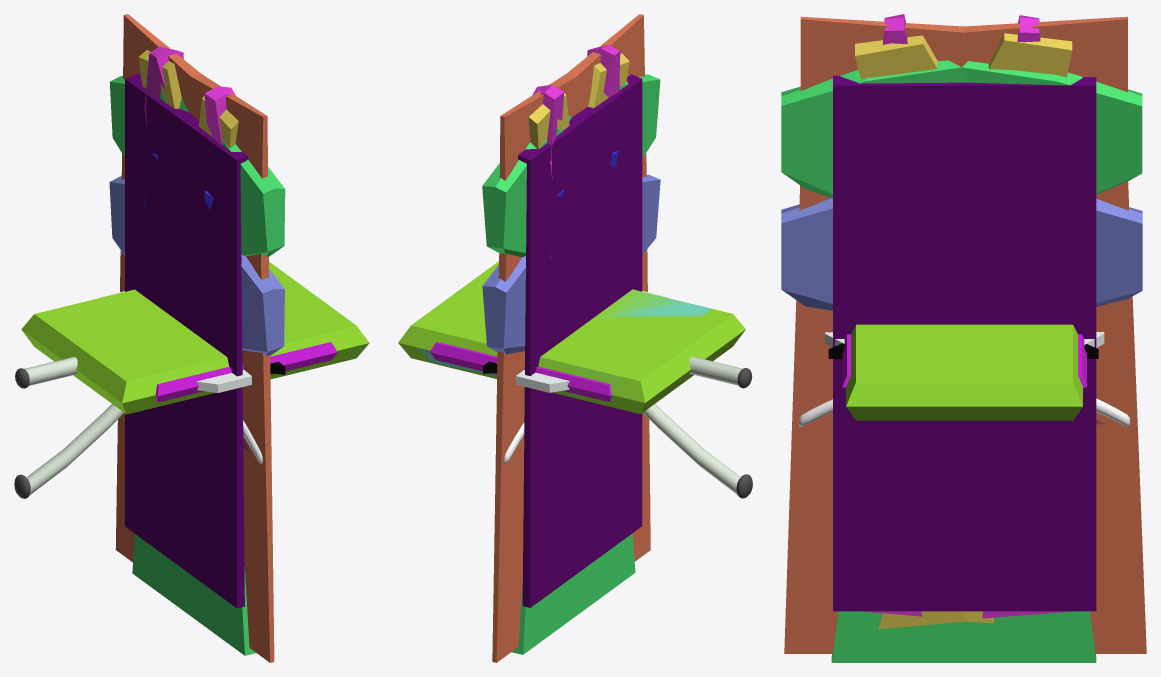
The model's file is cloth_set.fbx.
The picture shows the model from 3 angles, left to right: view 1: azimuth 30°, elevation 25°; view 2: azimuth 150°, elevation 25°; view 3: azimuth 270°, elevation 25°; orthographic projection. The views are drawn at different scales.
Parts seen in each view (by area): view 1: cloth.009, Cube.028, cloth.002, cloth.005, cloth.006, cloth_close, Cube.030, cloth.001, cloth.004, Cylinder.003, cloth.011; view 2: cloth.009, Cube.028, cloth.002, cloth.005, cloth.006, Cube.026, cloth_close, Cube.030, cloth.001, cloth.004, Cylinder.003, cloth.011; view 3: cloth.009, cloth.002, cloth.005, Cube.028, cloth.006, cloth.004, cloth.001, Cube.032, Cube.030.
Part boxes in pixels (box(x1,y1,x2,y2)): cloth.009: box(125, 73, 247, 608); Cube.028: box(21, 261, 369, 414); cloth.002: box(115, 14, 274, 662); cloth.005: box(109, 76, 285, 655); cloth.006: box(109, 176, 284, 355); cloth_close: box(14, 404, 123, 498); Cube.030: box(155, 342, 337, 402); cloth.001: box(144, 46, 235, 144); cloth.004: box(138, 50, 238, 148); Cylinder.003: box(15, 357, 77, 388); cloth.011: box(99, 291, 251, 392); cloth.009: box(518, 74, 642, 607); Cube.028: box(398, 261, 745, 413); cloth.002: box(492, 14, 650, 662); cloth.005: box(482, 74, 660, 654); cloth.006: box(482, 174, 660, 354); Cube.026: box(419, 290, 711, 401); cloth_close: box(643, 403, 752, 498); Cube.030: box(430, 342, 611, 401); cloth.001: box(532, 45, 620, 179); cloth.004: box(528, 53, 629, 149); Cylinder.003: box(689, 356, 752, 388); cloth.011: box(496, 291, 668, 392); cloth.009: box(833, 75, 1096, 611); cloth.002: box(784, 16, 1146, 653); cloth.005: box(781, 60, 1142, 662); Cube.028: box(846, 324, 1082, 420); cloth.006: box(781, 198, 1142, 310); cloth.004: box(855, 33, 1072, 629); cloth.001: box(862, 14, 1072, 618); Cube.032: box(799, 398, 1130, 426); Cube.030: box(842, 334, 1086, 392).
Size of the model in its own units: 220 by 381 by 196.
